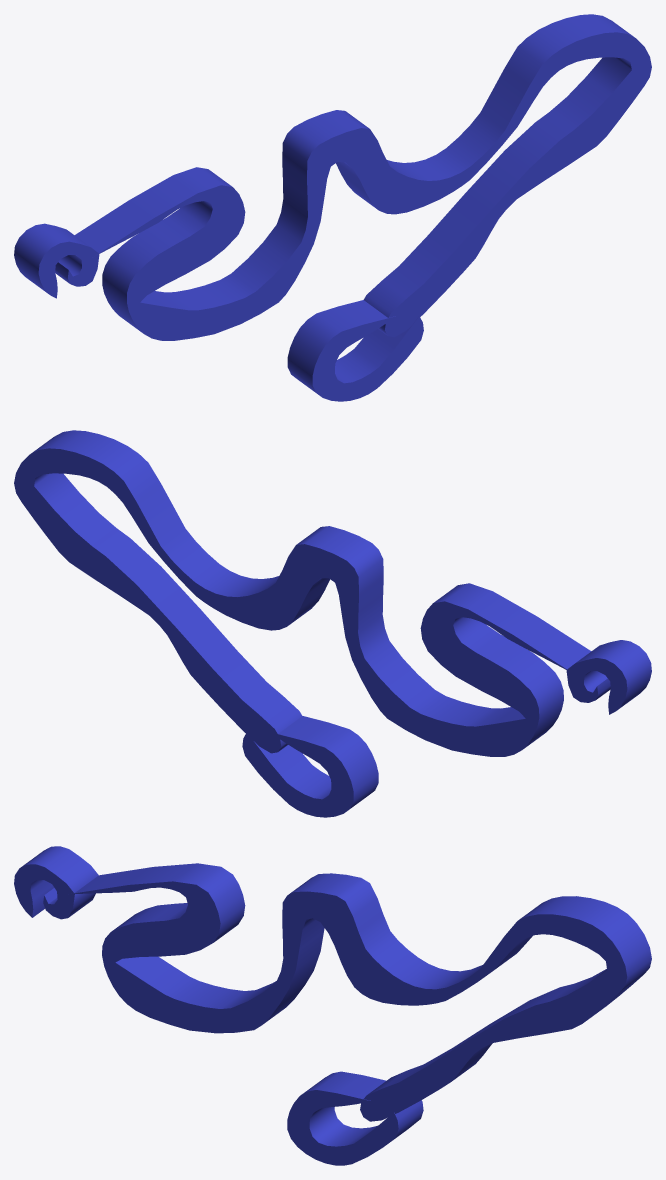
File: Leash.fbx
3 views of the same model, one above another, from view 1: azimuth 30°, elevation 25°; view 2: azimuth 150°, elevation 25°; view 3: azimuth 330°, elevation 25° (orthographic).
Visible parts, largest first — view 1: root (×3); view 2: root (×3); view 3: root (×3).
Boxes of the visible parts, <box> form: root (×3): <box>14,14,651,401</box>; root (×3): <box>14,430,651,817</box>; root (×3): <box>14,846,651,1165</box>.
Size of the model in its own units: 0.5418 by 0.258 by 0.0382.
